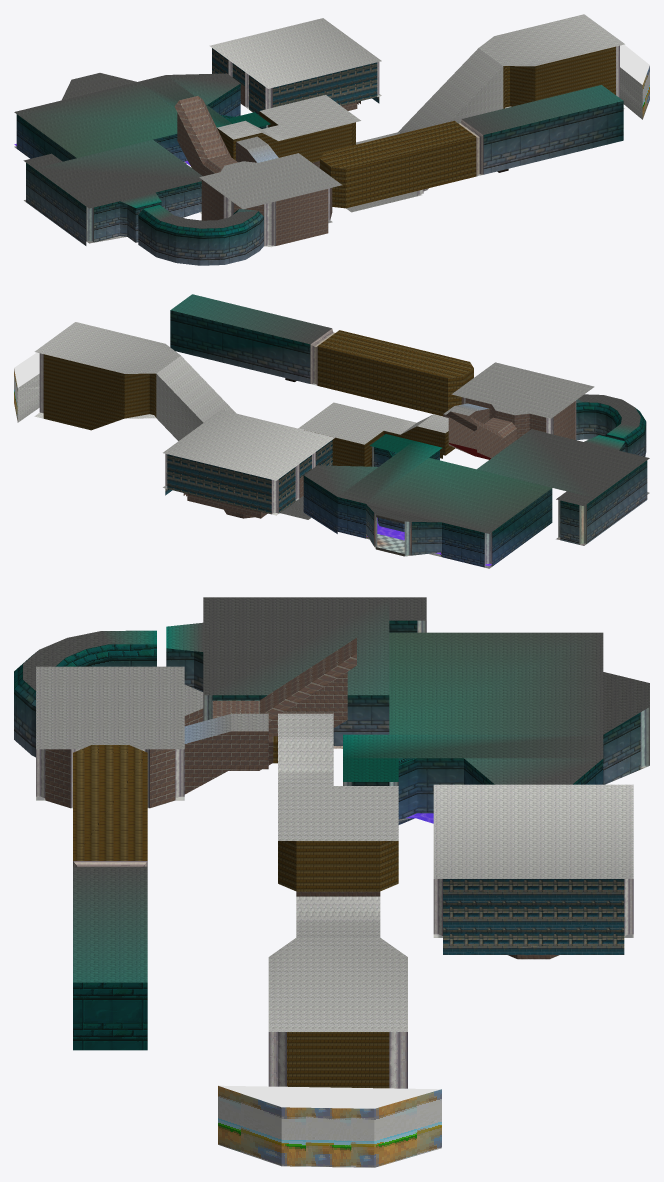
Rendered from castle_b1_all.glb.
3 views of the same model, one above another, from view 1: azimuth 30°, elevation 25°; view 2: azimuth 150°, elevation 25°; view 3: azimuth 270°, elevation 25° (orthographic). The views are drawn at different scales.
Visible parts, largest first — view 1: castle_b1_all; view 2: castle_b1_all; view 3: castle_b1_all.
Part boxes in pixels (x1,y1,x2,y2): castle_b1_all: (14, 14, 649, 265); castle_b1_all: (14, 294, 649, 568); castle_b1_all: (14, 597, 649, 1167).
Size of the model in its own units: 6.17 by 1.38 by 3.42.
Materials: 40 (37 with a texture image).
